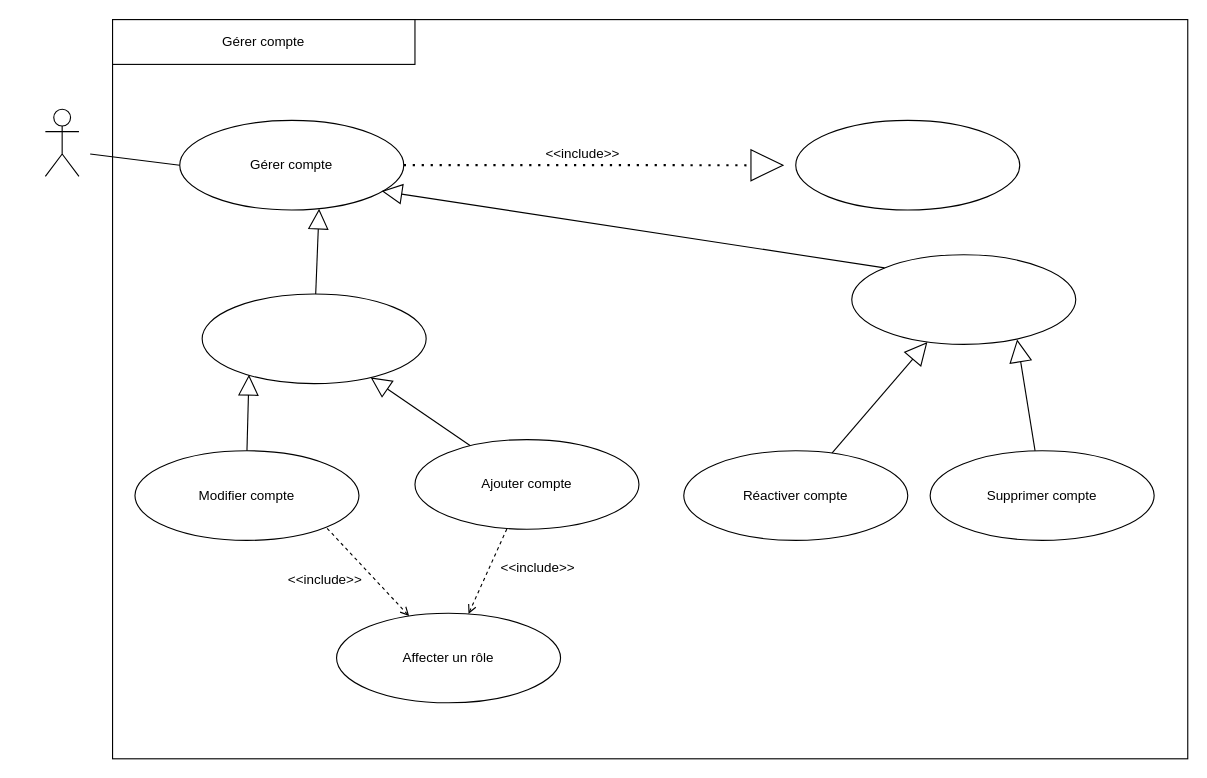
The diagram is 1207 pixels wide and 778 high, and some of its shapes have lost their labels. Each missing label, with the centre of its shape:
administrateur: point (61, 142)
Affiche liste compte: point (313, 338)
Affiche liste compte en veille: point (963, 299)
S'authentifier: point (907, 164)
